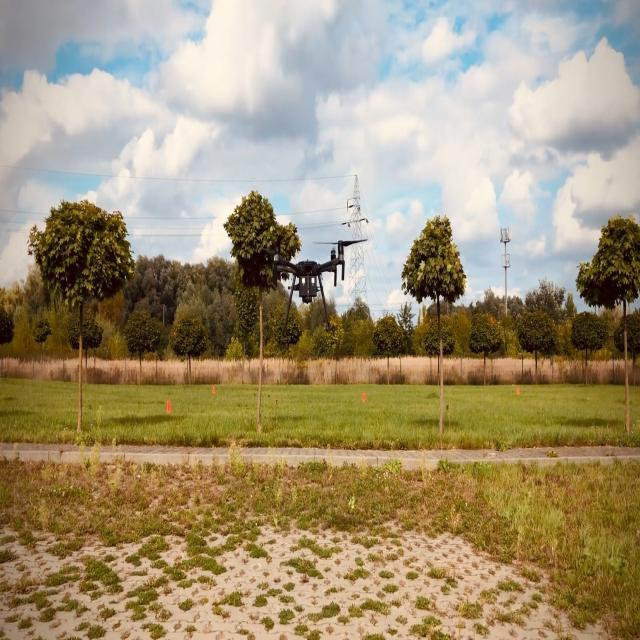drone: (268, 236, 368, 335)
